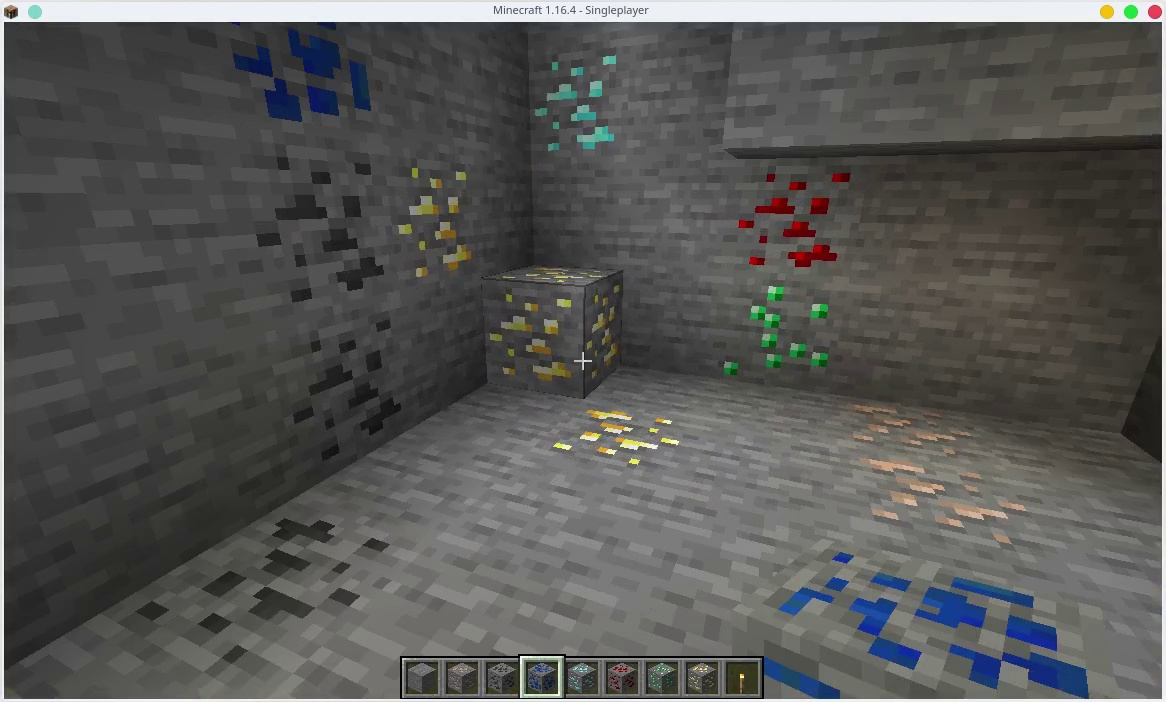gold: (486, 261, 627, 377), (544, 395, 687, 478), (386, 165, 478, 273), (687, 662, 717, 693)
